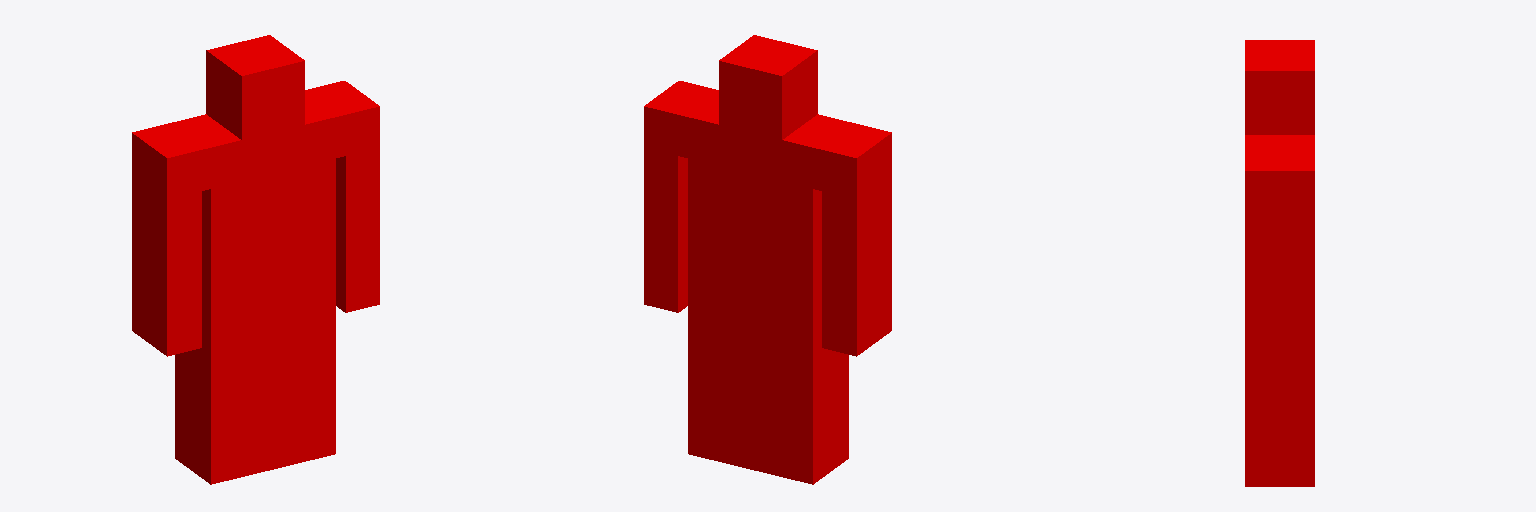
3 renders of one model, left to right at view 1: azimuth 30°, elevation 25°; view 2: azimuth 150°, elevation 25°; view 3: azimuth 270°, elevation 25°, orthographic.
Visible parts, largest first — view 1: Box001; view 2: Box001; view 3: Box001.
Part boxes in pixels (left/top/right/bottom): Box001: left=132, top=35, right=379, bottom=484; Box001: left=644, top=35, right=891, bottom=484; Box001: left=1245, top=40, right=1314, bottom=486.
Bounding box in the file's own units: 68.07 × 122 × 19.58.
Materials: 1 (1 with a texture image).